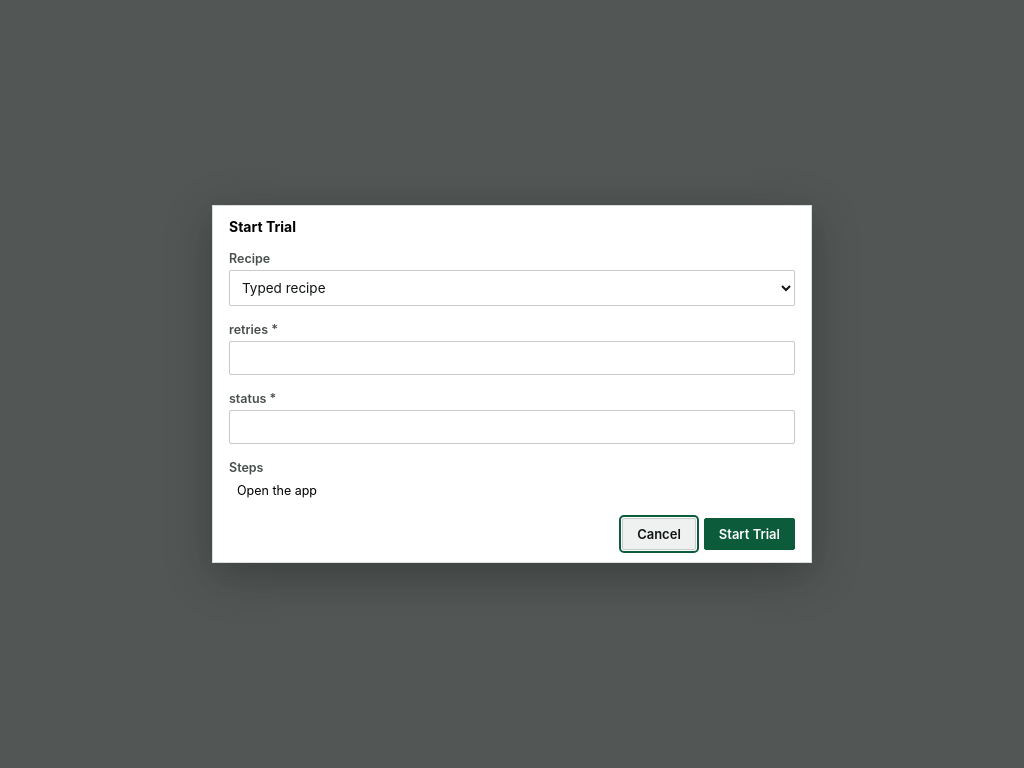
Test: StartRecipeJobModal › rejects a non-numeric value on a number-typed field
The image size is (1024, 768).
Type "not-a-number" into the field labelled "retries *" at point(512, 358), box [229,341,795,375]
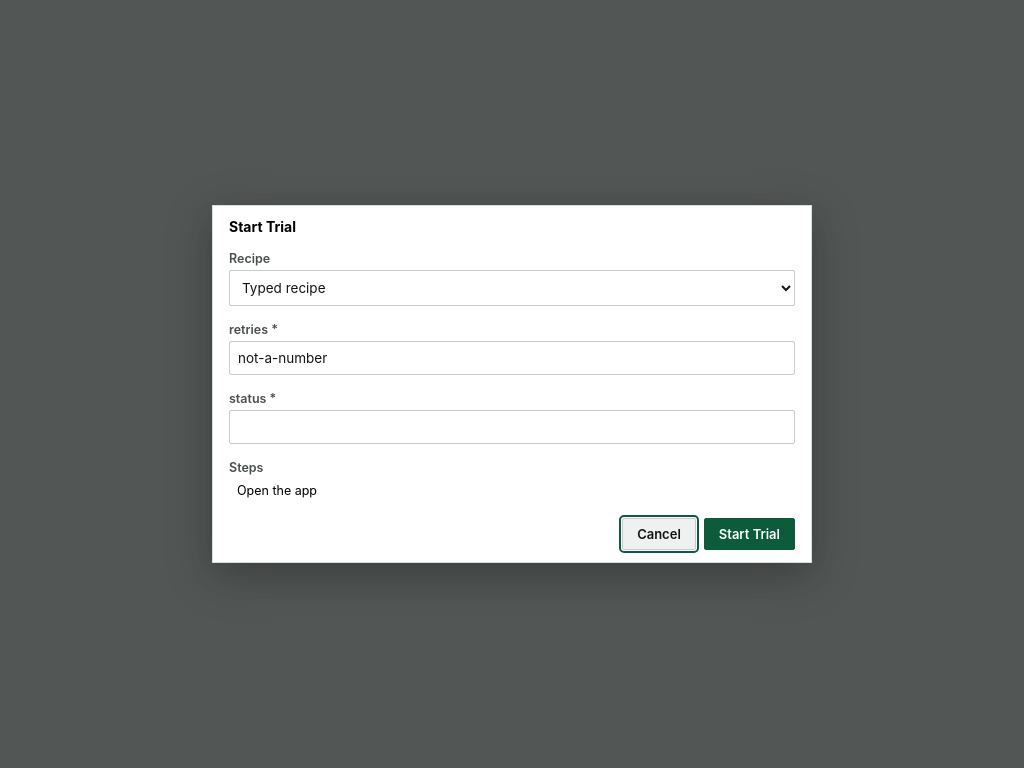
Type "found" into the field labelled "status *" at point(512, 427), box [229,410,795,444]
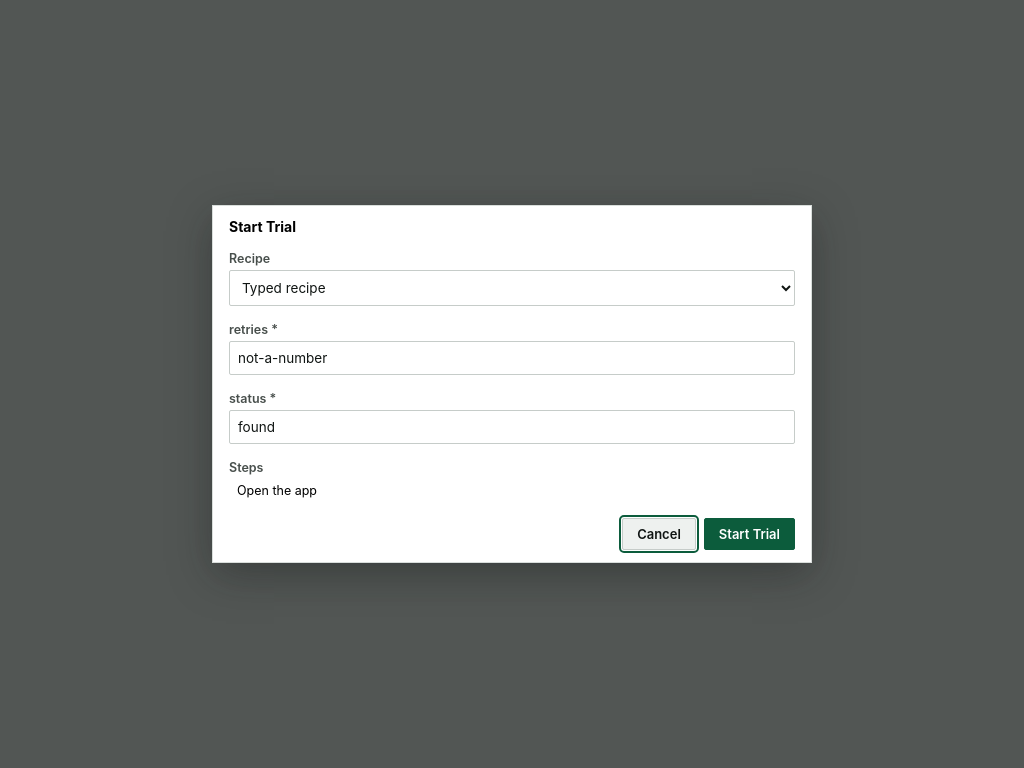
Click the button "Start Trial" at point(749, 534), box [704,518,795,550]
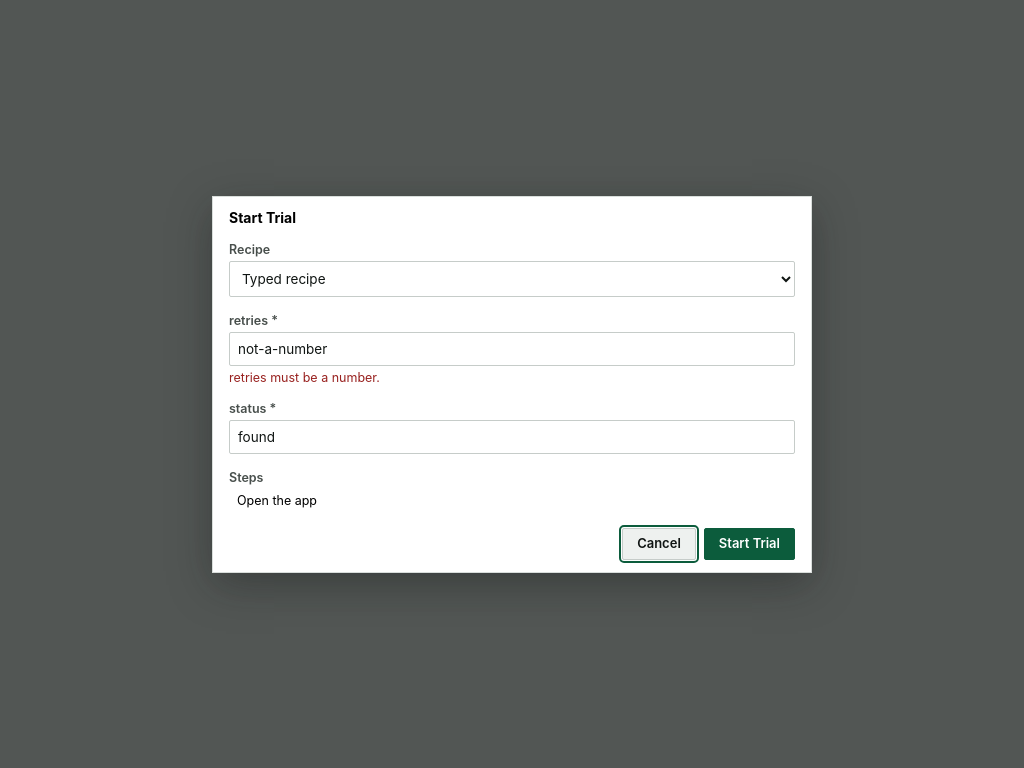
Expected: the text "retries must be a number." is shown, [229,370,380,384]
